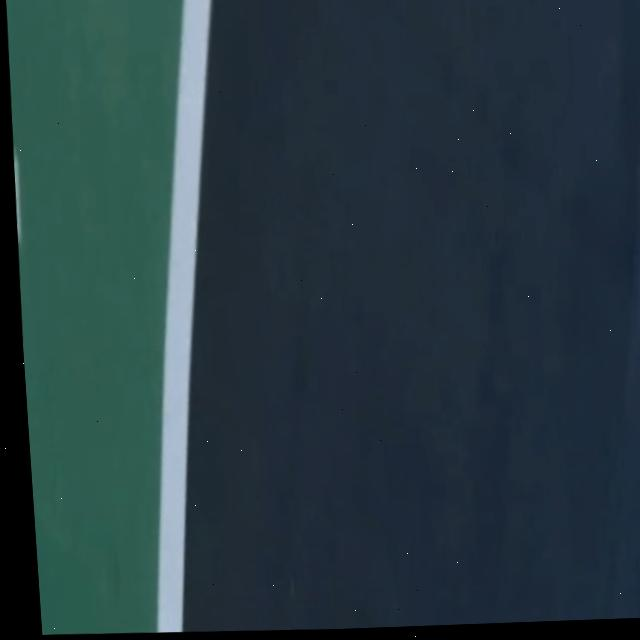right: (157, 0, 212, 632)
